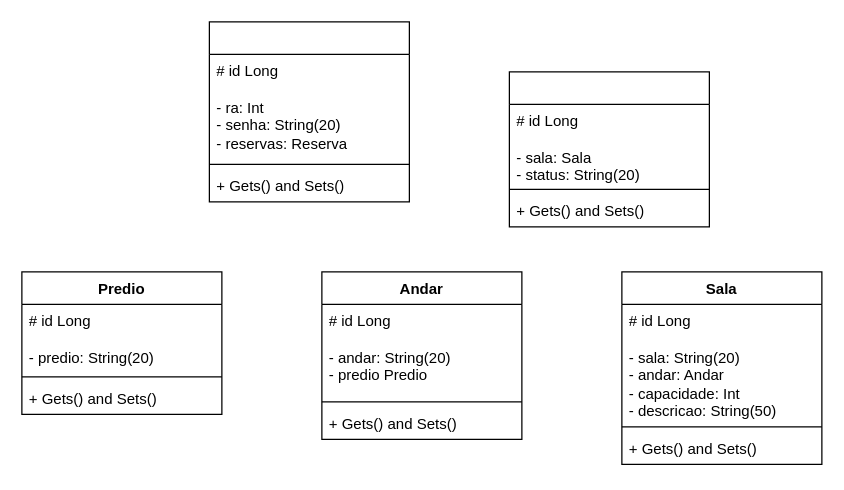
Image size: 844x490. Some labels were removed from this diagram. The box of each missing label's shape, as (x1, y1, x2, y2) in pixels:
Reserva: (508, 71, 709, 227)
Usuario: (208, 21, 409, 202)
